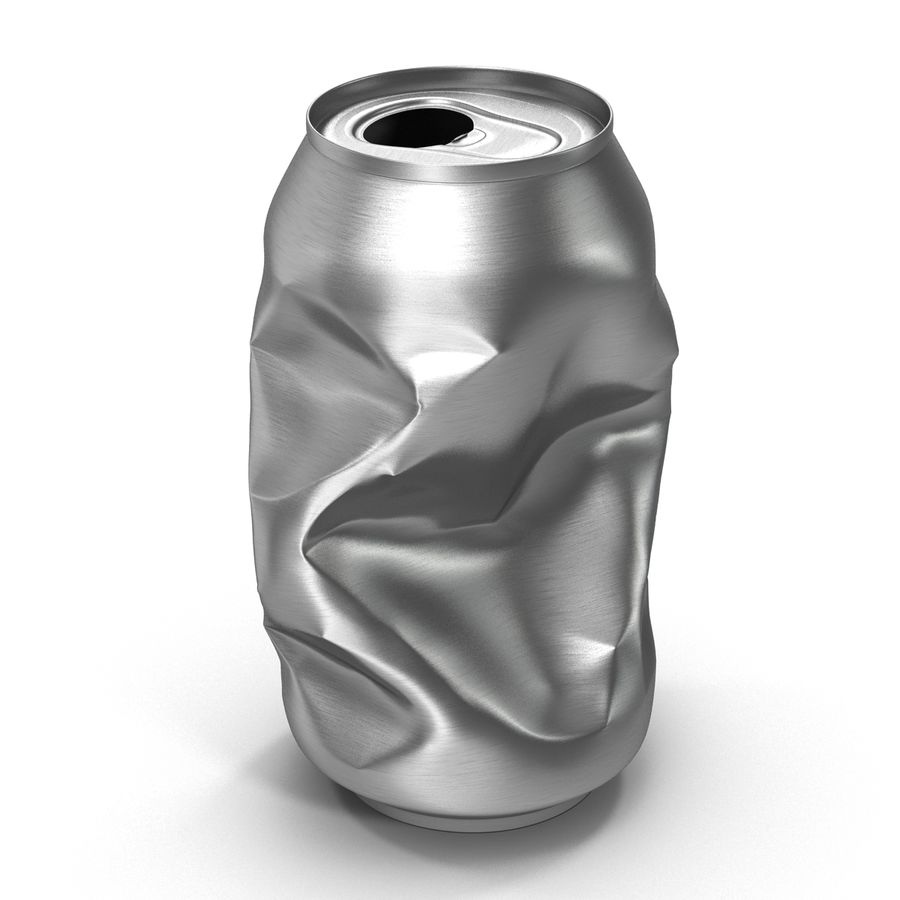can: (246, 64, 680, 837)
